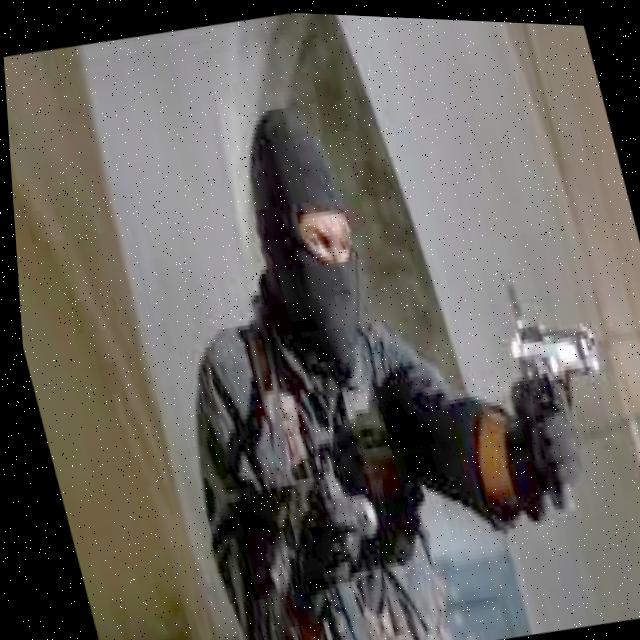firearm: (243, 437, 405, 640)
pistol: (496, 296, 632, 518)
